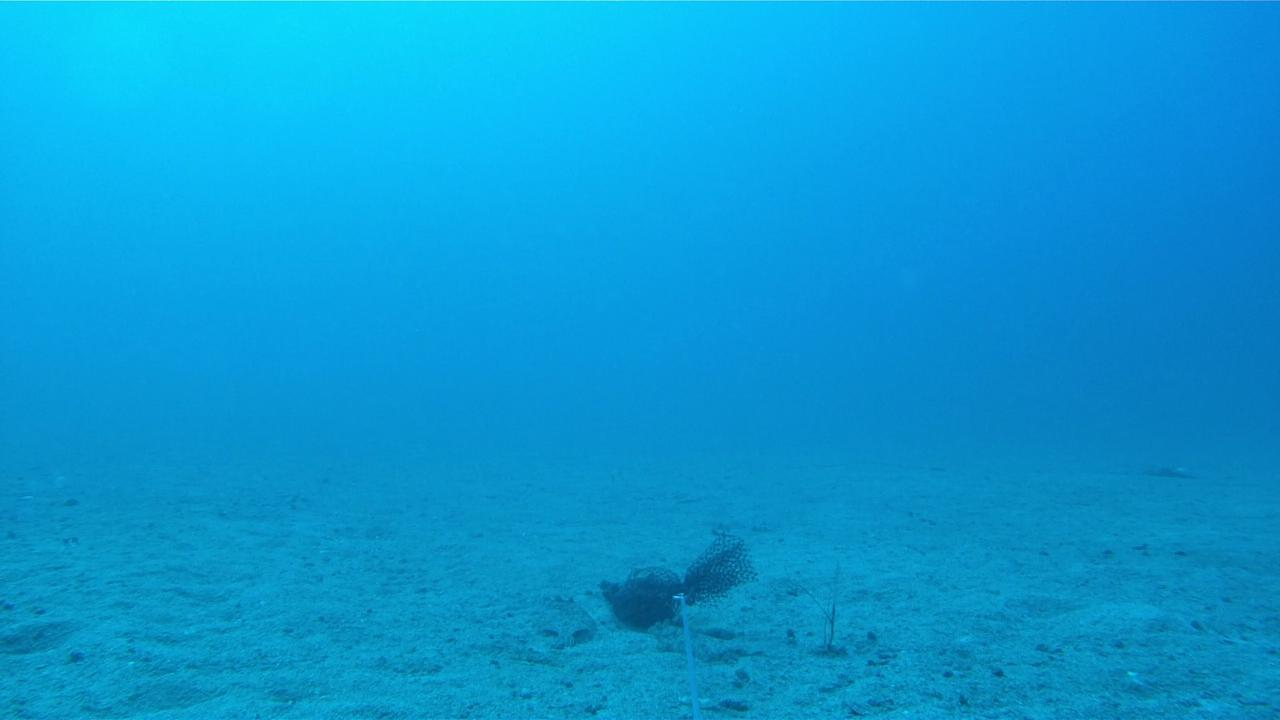bothus: (534, 588, 600, 650)
